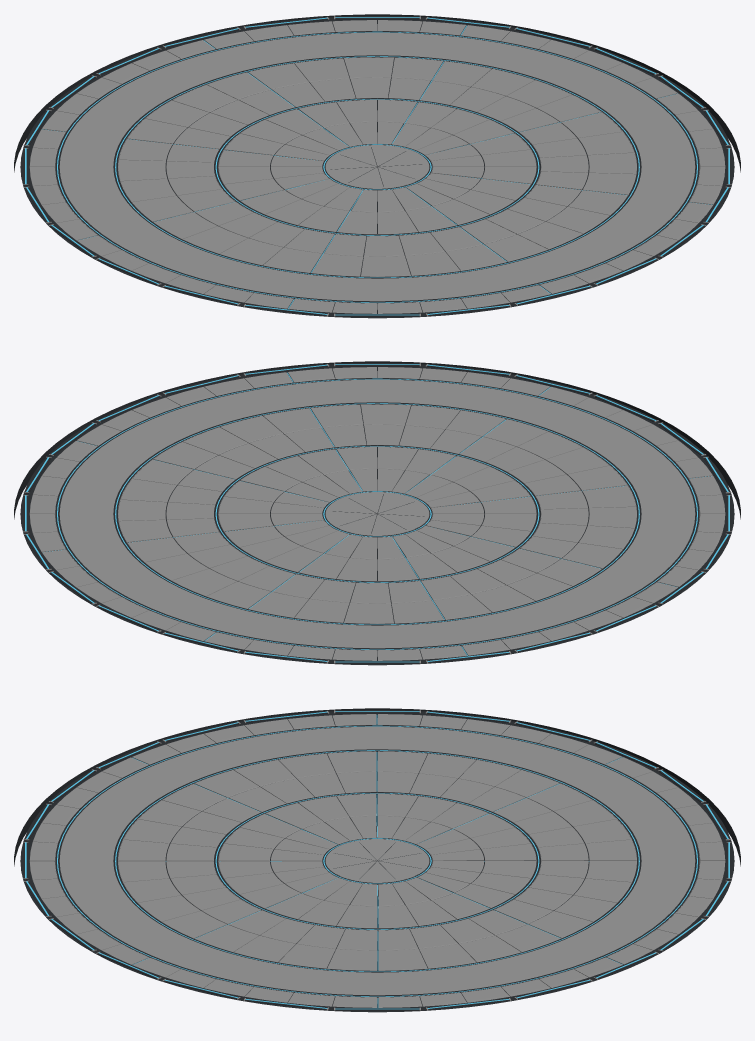
The model's file is Core_ArenaFloor.fbx.
3 views of the same model, one above another, from view 1: azimuth 30°, elevation 25°; view 2: azimuth 150°, elevation 25°; view 3: azimuth 270°, elevation 25° (orthographic).
Visible parts, largest first — view 1: Core_ArenaFloor_LOD0; view 2: Core_ArenaFloor_LOD0; view 3: Core_ArenaFloor_LOD0.
Boxes of the visible parts, x1,y1,x2,y2 form: Core_ArenaFloor_LOD0: [14, 14, 740, 318]; Core_ArenaFloor_LOD0: [14, 361, 740, 665]; Core_ArenaFloor_LOD0: [14, 708, 740, 1012].
Size of what is drawn, in the model's own units: 54.97 by 1.06 by 54.97.
